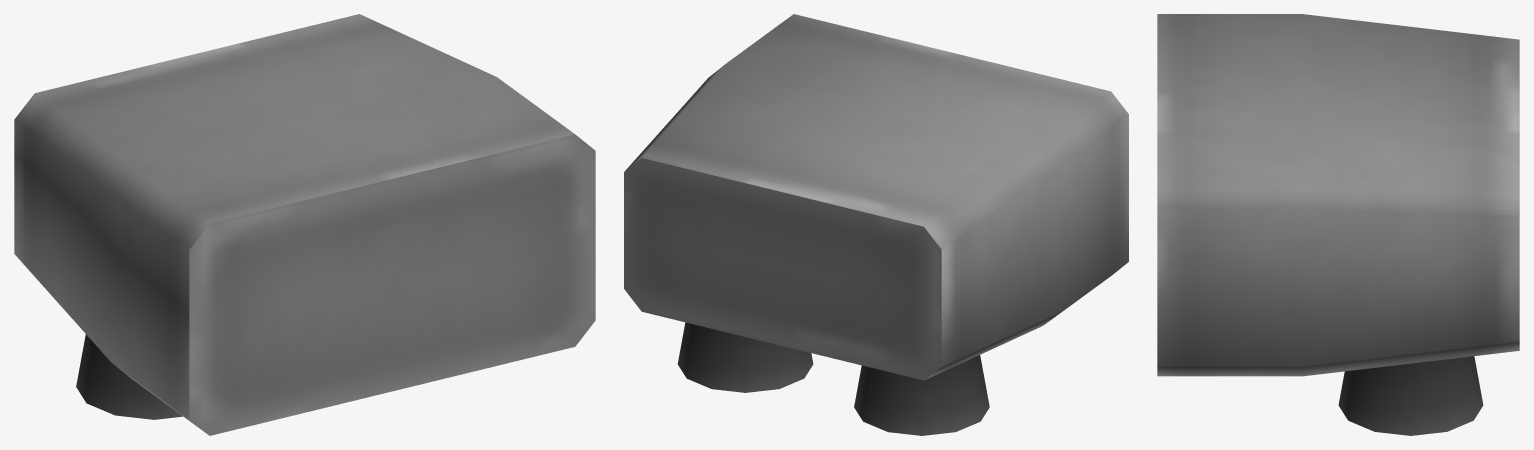
The model's file is octans_moe_srf_1.obj.
The picture shows the model from 3 angles, left to right: view 1: azimuth 30°, elevation 25°; view 2: azimuth 150°, elevation 25°; view 3: azimuth 270°, elevation 25°; orthographic projection. The views are drawn at different scales.
Visible parts, largest first — view 1: mesh; view 2: mesh; view 3: mesh.
Part boxes in pixels (<box>): mesh: <box>14,14,595,435</box>; mesh: <box>624,14,1128,435</box>; mesh: <box>1157,14,1519,435</box>.
Size of the model in its own units: 0.15 by 0.1 by 0.125.
1 material, 1 textured.
